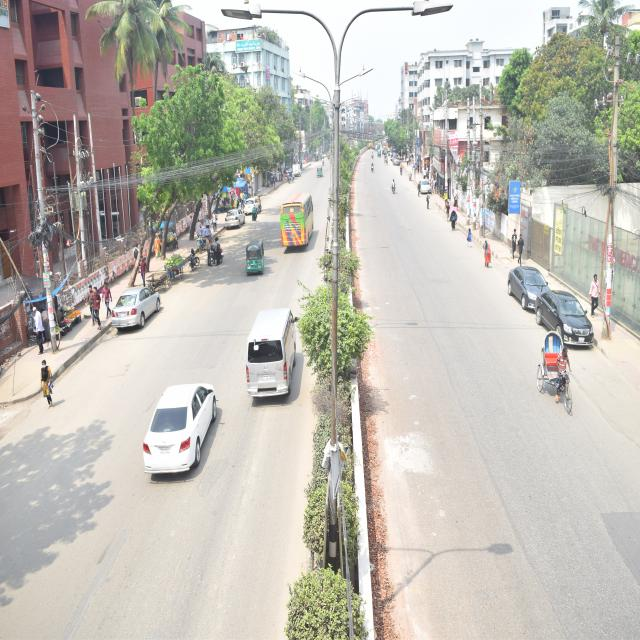bus: (276, 189, 329, 259)
car: (92, 355, 230, 504), (538, 286, 606, 371), (89, 274, 169, 344), (504, 260, 554, 326), (240, 188, 267, 225), (416, 175, 442, 207), (221, 198, 246, 230)
microbus: (243, 286, 297, 422)
motorbike: (201, 232, 229, 262), (186, 249, 206, 272), (388, 172, 401, 202), (368, 146, 379, 163), (321, 156, 327, 168), (370, 159, 374, 176)
pickup-van: (290, 160, 304, 187)
